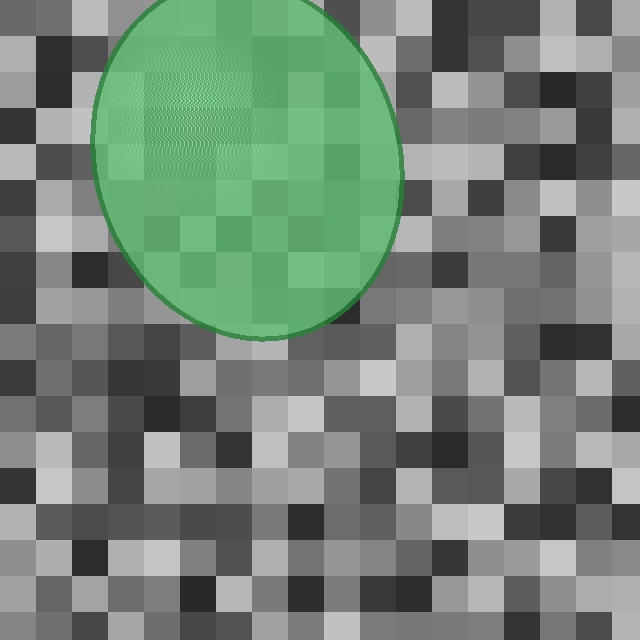lens: (93, 0, 401, 339)
